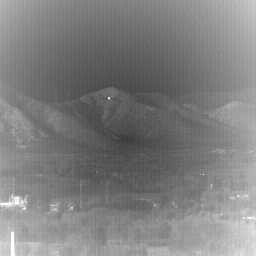aircraft: (108, 98, 110, 100)
